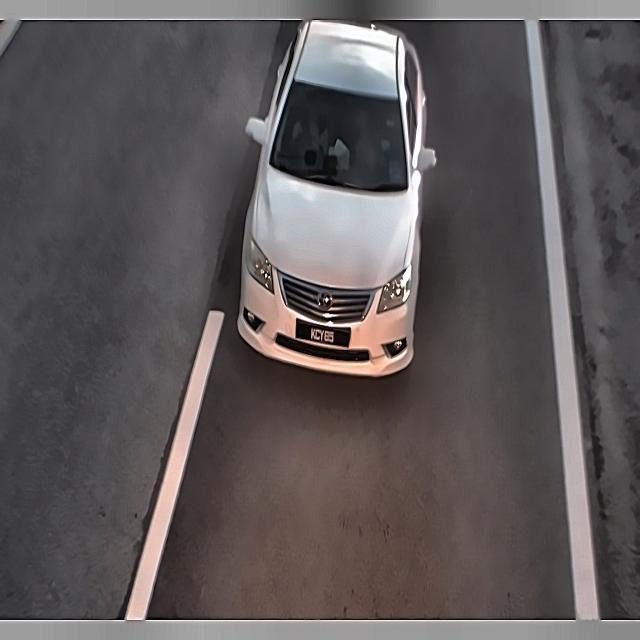car: (293, 312, 354, 355)
